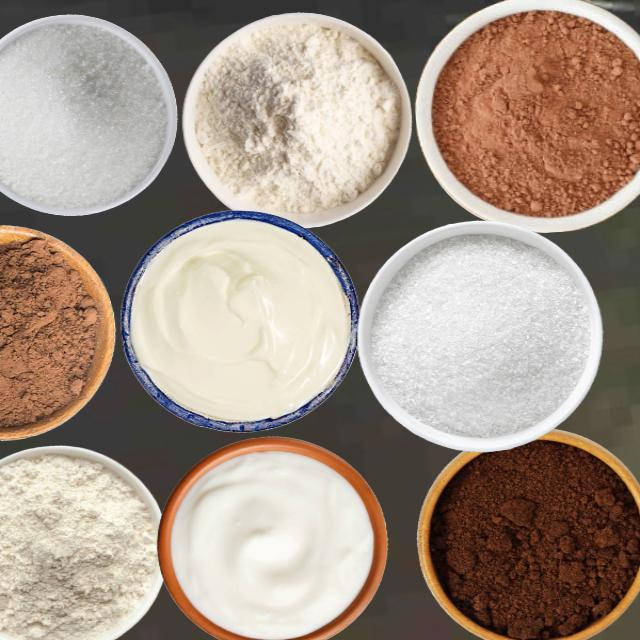Cocoa: (430, 7, 639, 217), (0, 233, 110, 440)
Coffee: (428, 438, 639, 639)
Flour: (193, 20, 399, 213), (0, 453, 159, 639)
Sugar: (369, 233, 591, 438), (0, 21, 167, 210)
